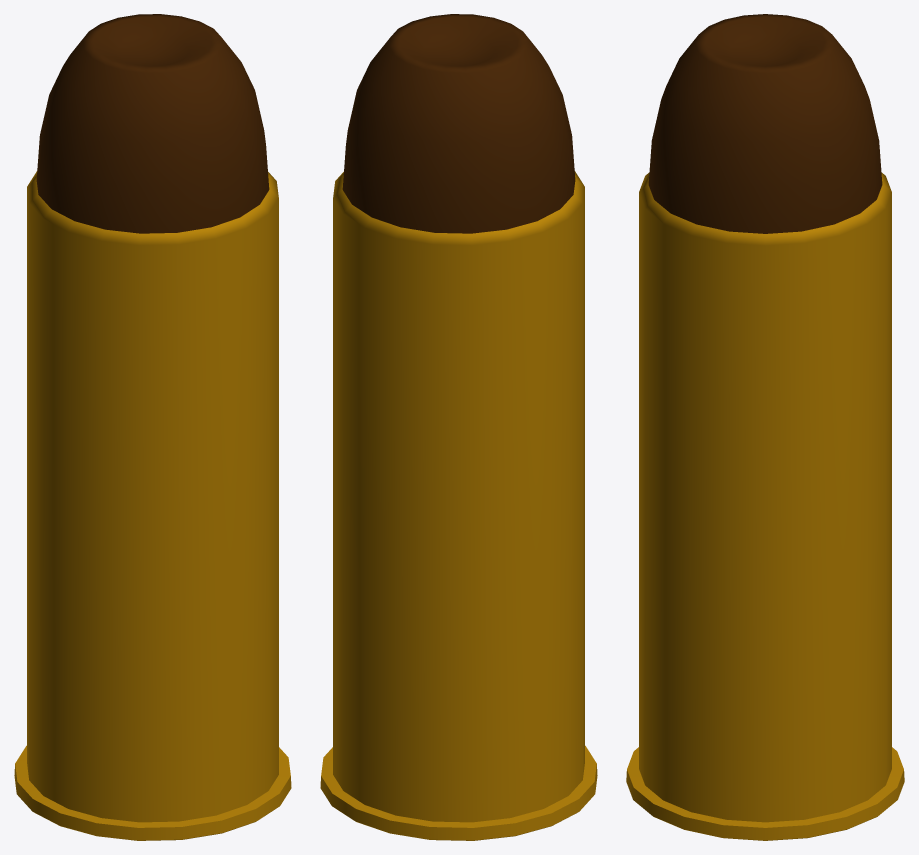
File: BulletNCasing.fbx
3 views of the same model, side by side, from view 1: azimuth 30°, elevation 25°; view 2: azimuth 150°, elevation 25°; view 3: azimuth 270°, elevation 25° (orthographic).
Parts seen in each view (by area): view 1: Casing, Bullet; view 2: Casing, Bullet; view 3: Casing, Bullet.
Part boxes in pixels (x1,y1,x2,y2): Casing: (14,171,291,840); Bullet: (36,14,269,233); Casing: (320,171,597,840); Bullet: (342,14,575,233); Casing: (626,172,904,840); Bullet: (648,14,882,233).
Bounding box in the file's own units: 2.2 × 6.47 × 2.2.
